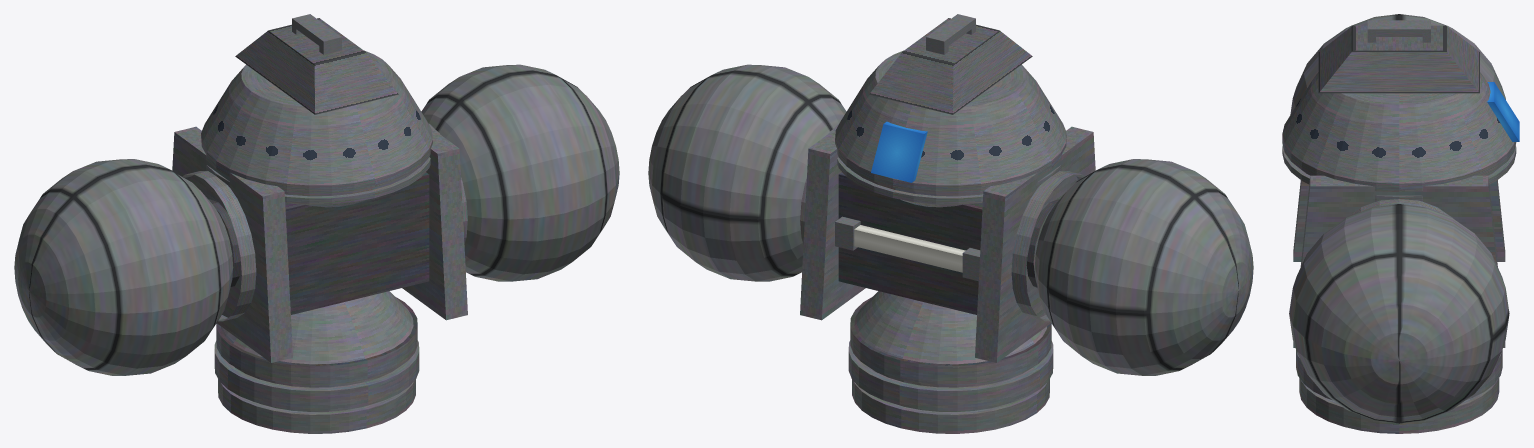
Rendered from naquadah_generator_mk2_off.obj.
3 views of the same model, side by side, from view 1: azimuth 30°, elevation 25°; view 2: azimuth 150°, elevation 25°; view 3: azimuth 270°, elevation 25° (orthographic).
Bounding box in the file's own units: 0.79 × 0.4775 × 0.28.
